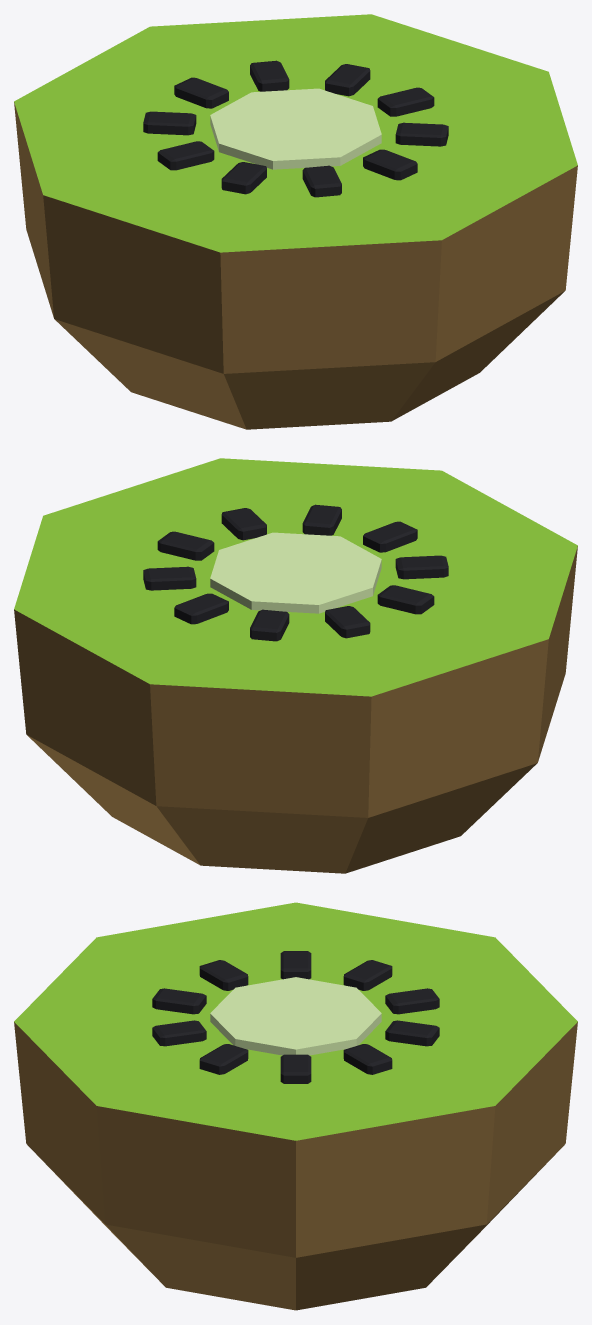
Rendered from KiwiHalf.fbx.
3 views of the same model, one above another, from view 1: azimuth 30°, elevation 25°; view 2: azimuth 150°, elevation 25°; view 3: azimuth 270°, elevation 25° (orthographic). The views are drawn at different scales.
Visible parts, largest first — view 1: KiwiHalf; view 2: KiwiHalf; view 3: KiwiHalf.
Part boxes in pixels (x1,y1,x2,y2): KiwiHalf: [14, 14, 577, 429]; KiwiHalf: [14, 458, 577, 873]; KiwiHalf: [14, 902, 577, 1310].
Bounding box in the file's own units: 0.92 × 0.4175 × 0.92.
1 material, 1 textured.
